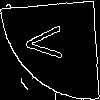V: (25, 24, 71, 61)
